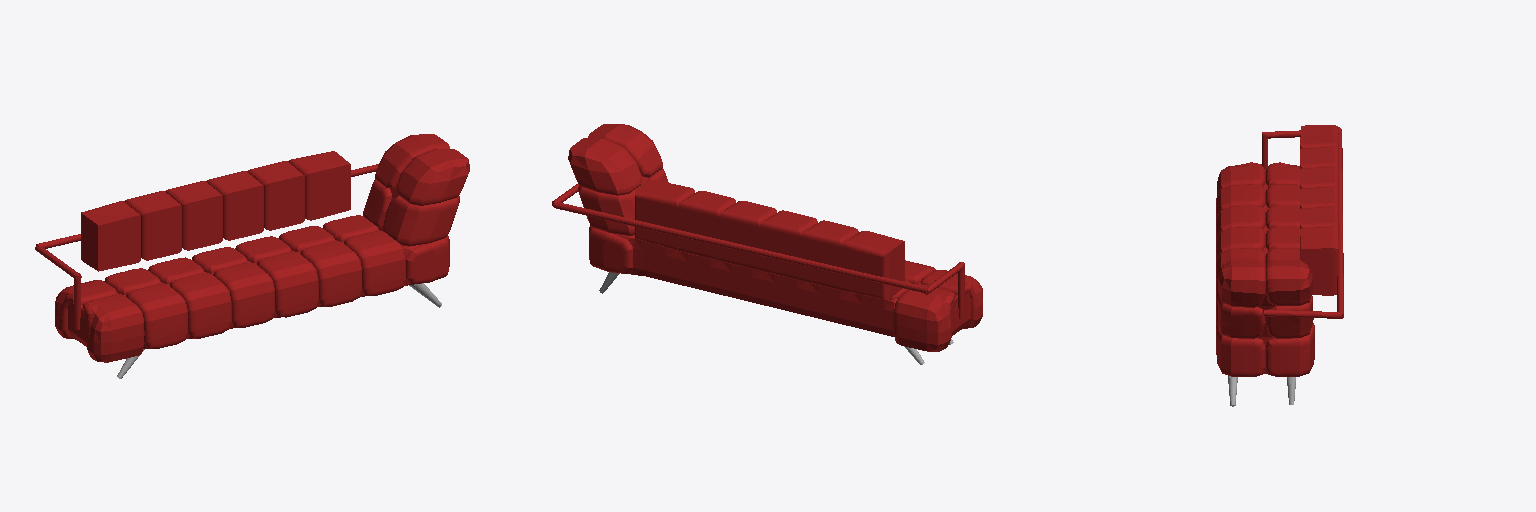
File: sofa.obj
The picture shows the model from 3 angles: view 1: azimuth 30°, elevation 25°; view 2: azimuth 150°, elevation 25°; view 3: azimuth 270°, elevation 25°; orthographic projection.
Parts seen in each view (by area): view 1: Merged_Meshes1; view 2: Merged_Meshes1; view 3: Merged_Meshes1.
Boxes of the visible parts, <box> form: Merged_Meshes1: <box>35,134,469,362</box>; Merged_Meshes1: <box>552,124,982,351</box>; Merged_Meshes1: <box>1216,125,1343,376</box>.
Bounding box in the file's own units: 5.14 × 1.87 × 1.49.